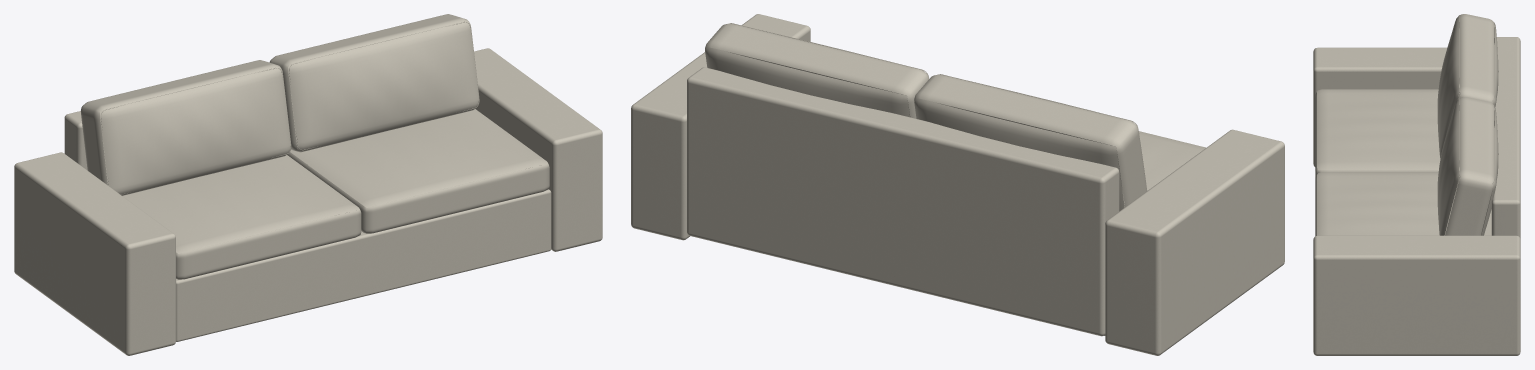
The model's file is sofa.glb.
3 views of the same model, side by side, from view 1: azimuth 30°, elevation 25°; view 2: azimuth 150°, elevation 25°; view 3: azimuth 270°, elevation 25° (orthographic). The views are drawn at different scales.
Visible parts, largest first — view 1: Upholstered seat base, Broad low upholstered arm, Loose back cushion 1, Loose back cushion 2, Loose seat cushion 2, Loose seat cushion 1, Broad low upholstered arm.001, Rear support beneath loose back cushions; view 2: Rear support beneath loose back cushions, Broad low upholstered arm, Loose back cushion 1, Loose back cushion 2, Broad low upholstered arm.001, Loose seat cushion 1; view 3: Broad low upholstered arm.001, Loose seat cushion 1, Loose seat cushion 2, Loose back cushion 2, Broad low upholstered arm, Rear support beneath loose back cushions, Loose back cushion 1.
Boxes of the visible parts, x1,y1,x2,y2 form: Upholstered seat base: [176, 173, 551, 341]; Broad low upholstered arm: [14, 152, 175, 355]; Loose back cushion 1: [81, 60, 291, 195]; Loose back cushion 2: [269, 14, 479, 152]; Loose seat cushion 2: [287, 109, 549, 233]; Loose seat cushion 1: [123, 155, 361, 279]; Broad low upholstered arm.001: [474, 48, 602, 251]; Rear support beneath loose back cushions: [64, 75, 290, 170]; Rear support beneath loose back cushions: [687, 67, 1119, 336]; Broad low upholstered arm: [1105, 129, 1284, 355]; Loose back cushion 1: [914, 74, 1147, 211]; Loose back cushion 2: [705, 23, 929, 118]; Broad low upholstered arm.001: [631, 14, 810, 240]; Loose seat cushion 1: [1124, 131, 1205, 207]; Broad low upholstered arm.001: [1313, 235, 1520, 355]; Loose seat cushion 1: [1315, 89, 1460, 177]; Loose seat cushion 2: [1315, 172, 1460, 235]; Loose back cushion 2: [1437, 97, 1498, 235]; Broad low upholstered arm: [1313, 47, 1446, 166]; Rear support beneath loose back cushions: [1491, 37, 1520, 238]; Loose back cushion 1: [1437, 14, 1498, 158].
Bounding box in the file's own units: 2.28 × 0.83 × 0.95.
Materials: 3 (1 with a texture image).
